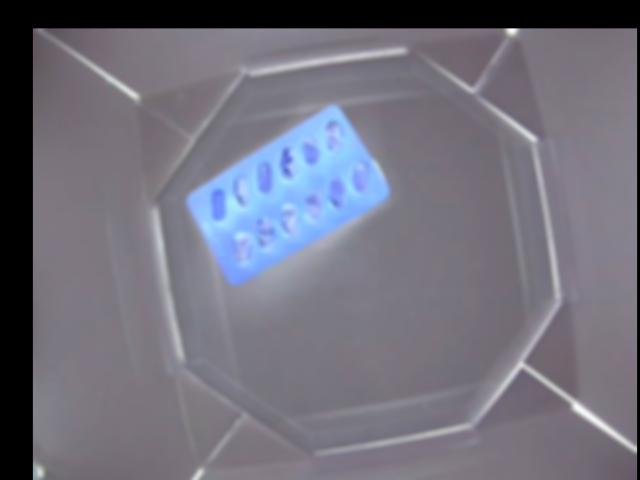Medicine: (187, 102, 391, 283)
